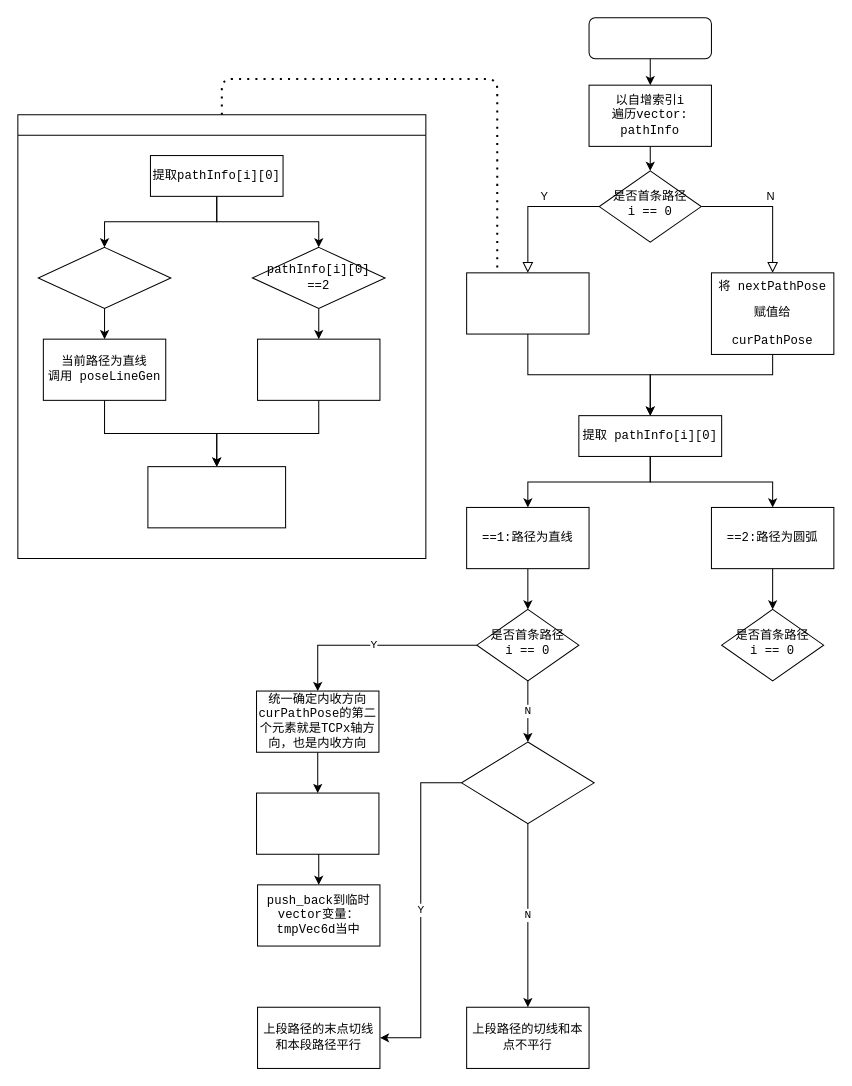
Some shapes in this 852 by 1086 pixel diagram are drawn without their labels. The shapes that lost their labels are listed below. From the top down, each one's box as (x1, y1, x2, y2) in pixels, then its label:
(588, 17, 711, 59): 开始
(37, 246, 171, 309): pathInfo[i][0] ==1
(466, 272, 589, 334): 初始化当前姿态 curPathPose
(17, 114, 426, 558): 初始化当前姿态
(257, 338, 380, 400): 当前路径为直线 调用 poseCircGen
(147, 466, 286, 528): 生成当前详细姿态信息 curPathPose
(461, 741, 594, 824): lastTanParrel ==1
(256, 792, 379, 854): 将当前路径点内收 整合姿态欧拉角
